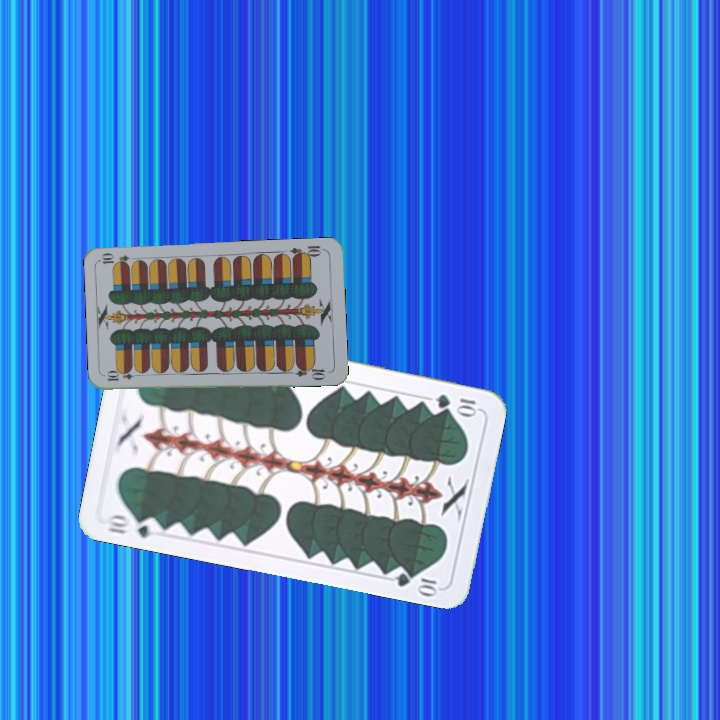E10: (287, 241, 327, 261), (103, 369, 143, 384)
G10: (102, 510, 162, 541), (431, 390, 481, 417)
